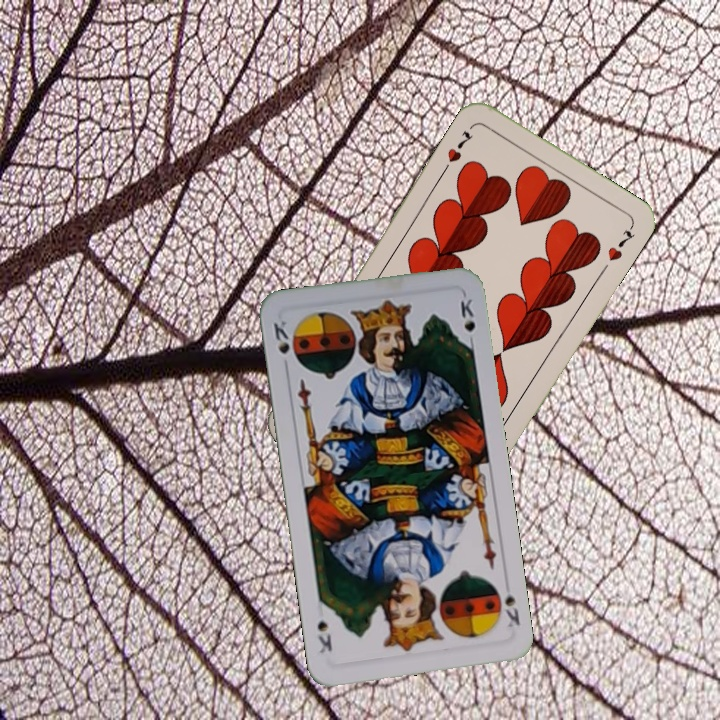H7: (443, 127, 476, 165)
SK: (490, 581, 523, 630), (269, 316, 292, 357)
